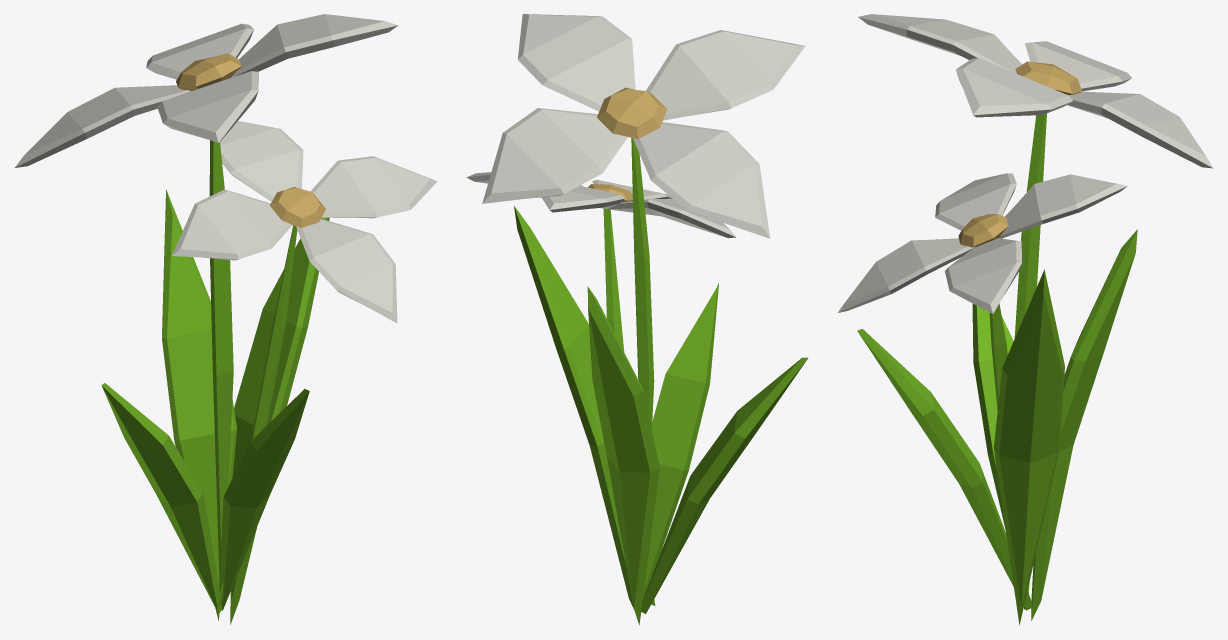
File: SM_Grass_2.fbx
3 views of the same model, side by side, from view 1: azimuth 30°, elevation 25°; view 2: azimuth 150°, elevation 25°; view 3: azimuth 270°, elevation 25° (orthographic). The views are drawn at different scales.
Parts seen in each view (by area): view 1: SM_Grass_2_LOD0; view 2: SM_Grass_2_LOD0; view 3: SM_Grass_2_LOD0.
Boxes of the visible parts, x1=… form: SM_Grass_2_LOD0: x1=15, y1=14, x2=437, y2=624; SM_Grass_2_LOD0: x1=466, y1=14, x2=808, y2=625; SM_Grass_2_LOD0: x1=838, y1=14, x2=1213, y2=625.
Bounding box in the file's own units: 80.1 × 70.52 × 123.
Materials: 1 (1 with a texture image).
